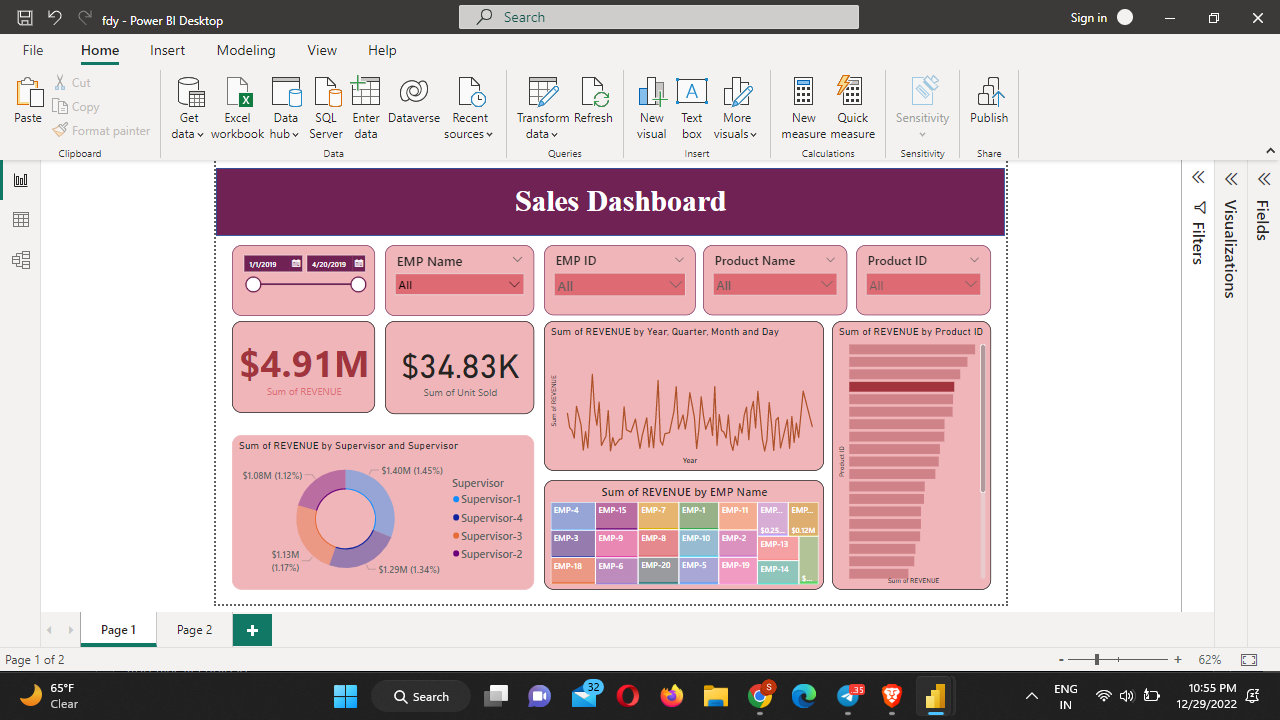

Layout of this report page (visuals, bound fields, positions):
{"tool":"powerbi","page":{"name":"Page 1","canvas":[1280,720],"ordinal":0},"visuals":[{"type":"shape","box":[0,13,1279.5,110.3],"z":0},{"type":"textbox","box":[84.1,33.6,1143.6,89.7],"z":1000},{"type":"slicer","fields":{"Values":["Sales Data.Date"]},"box":[25.9,137.8,231.9,115.1],"z":2000},{"type":"slicer","fields":{"Values":["Emp Master.EMP Name"]},"box":[274.1,137.8,241.6,115.1],"z":3000},{"type":"slicer","fields":{"Values":["Sales Data.EMP ID"]},"box":[531.9,137.8,246.5,113.5],"z":4000},{"type":"slicer","fields":{"Values":["Product Master.Product Name"]},"box":[789.7,137.8,233.5,113.5],"z":5000},{"type":"slicer","fields":{"Values":["Product Master.Product ID"]},"box":[1037.8,137.8,218.9,113.5],"z":6000},{"type":"card","fields":{"Values":["Sum(Sales Data.REVENUE)"]},"box":[25.9,261.1,231.9,149.2],"z":7000},{"type":"card","fields":{"Values":["Sum(Sales Data.Unit Sold)"]},"box":[274.1,261.1,241.6,150.8],"z":8000},{"type":"donutChart","fields":{"Y":["Sum(Sales Data.REVENUE)"],"Category":["Emp Master.EMP Name","Emp Master.Supervisor"],"Series":["Emp Master.Supervisor"]},"box":[25.9,445.9,489.7,251.4],"z":9000},{"type":"areaChart","fields":{"Y":["Sum(Sales Data.REVENUE)"],"Category":["Sales Data.Date.Variation.Date Hierarchy.Year","Sales Data.Date.Variation.Date Hierarchy.Quarter","Sales Data.Date.Variation.Date Hierarchy.Month","Sales Data.Date.Variation.Date Hierarchy.Day"]},"box":[531.9,261.1,454.1,243.2],"z":10000},{"type":"treemap","fields":{"Values":["Sum(Sales Data.REVENUE)"],"Group":["Emp Master.EMP Name"]},"box":[531.9,518.9,454.1,178.4],"z":11000},{"type":"clusteredBarChart","fields":{"Category":["Sales Data.Product ID"],"Y":["Sum(Sales Data.REVENUE)"]},"box":[998.9,261.1,257.8,436.2],"z":12000}]}

Visuals, with their boxes on the page's 1280x720 design canvas (x1, y1, x2, y2). These are canvas units, not pixel positions in the 1280x720 screenshot, which may show the page scaled, cropped or inside an application window:
shape: {"x1": 0, "y1": 13, "x2": 1280, "y2": 123}
textbox: {"x1": 84, "y1": 34, "x2": 1228, "y2": 123}
slicer - Sales Data.Date: {"x1": 26, "y1": 138, "x2": 258, "y2": 253}
slicer - Emp Master.EMP Name: {"x1": 274, "y1": 138, "x2": 516, "y2": 253}
slicer - Sales Data.EMP ID: {"x1": 532, "y1": 138, "x2": 778, "y2": 251}
slicer - Product Master.Product Name: {"x1": 790, "y1": 138, "x2": 1023, "y2": 251}
slicer - Product Master.Product ID: {"x1": 1038, "y1": 138, "x2": 1257, "y2": 251}
card - Sum(Sales Data.REVENUE): {"x1": 26, "y1": 261, "x2": 258, "y2": 410}
card - Sum(Sales Data.Unit Sold): {"x1": 274, "y1": 261, "x2": 516, "y2": 412}
donutChart - Sum(Sales Data.REVENUE) x Emp Master.EMP Name: {"x1": 26, "y1": 446, "x2": 516, "y2": 697}
areaChart - Sum(Sales Data.REVENUE) x Sales Data.Date.Variation.Date Hierarchy.Year: {"x1": 532, "y1": 261, "x2": 986, "y2": 504}
treemap - Sum(Sales Data.REVENUE) x Emp Master.EMP Name: {"x1": 532, "y1": 519, "x2": 986, "y2": 697}
clusteredBarChart - Sales Data.Product ID x Sum(Sales Data.REVENUE): {"x1": 999, "y1": 261, "x2": 1257, "y2": 697}
